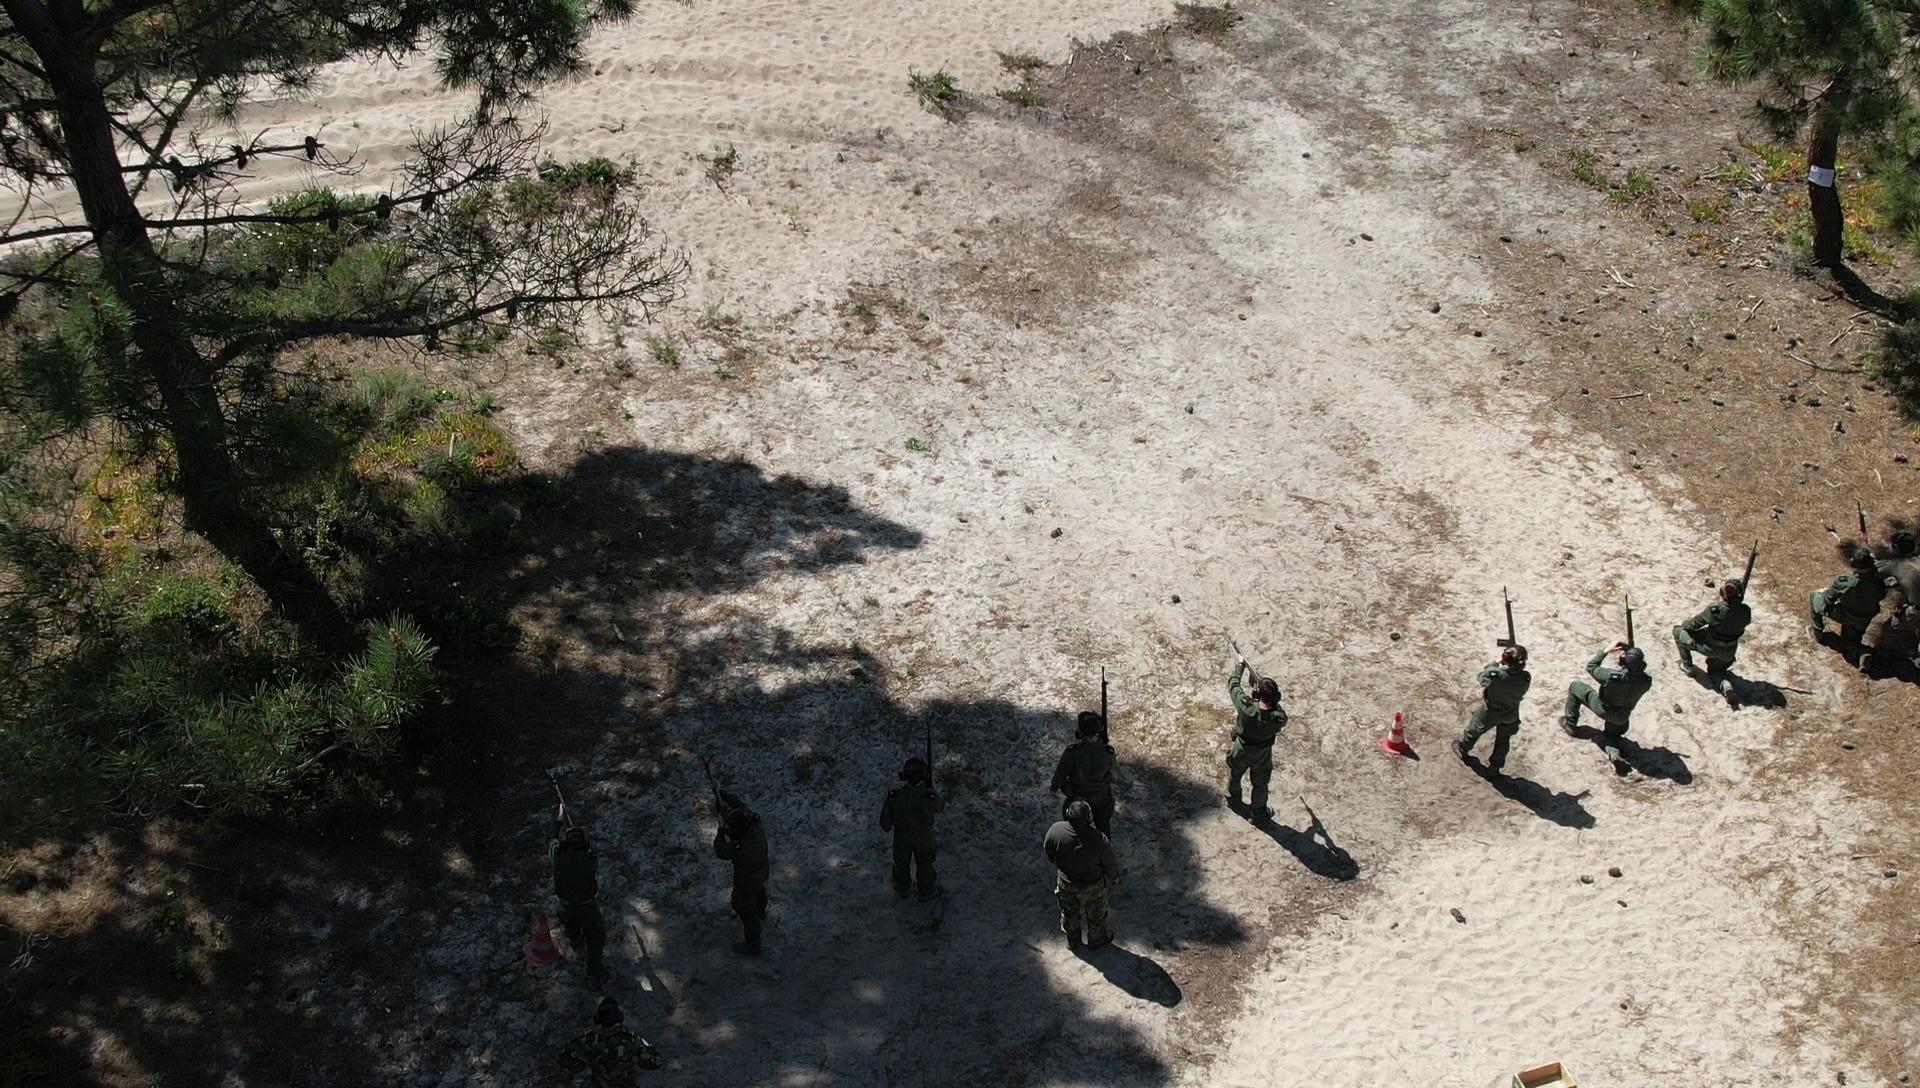Soldier: (1555, 589, 1656, 789), (686, 750, 781, 960), (531, 768, 621, 986), (1441, 583, 1536, 785), (1022, 797, 1131, 969), (1671, 529, 1771, 716), (1205, 628, 1292, 841), (874, 702, 949, 917), (1797, 501, 1888, 669), (1044, 658, 1122, 810)
